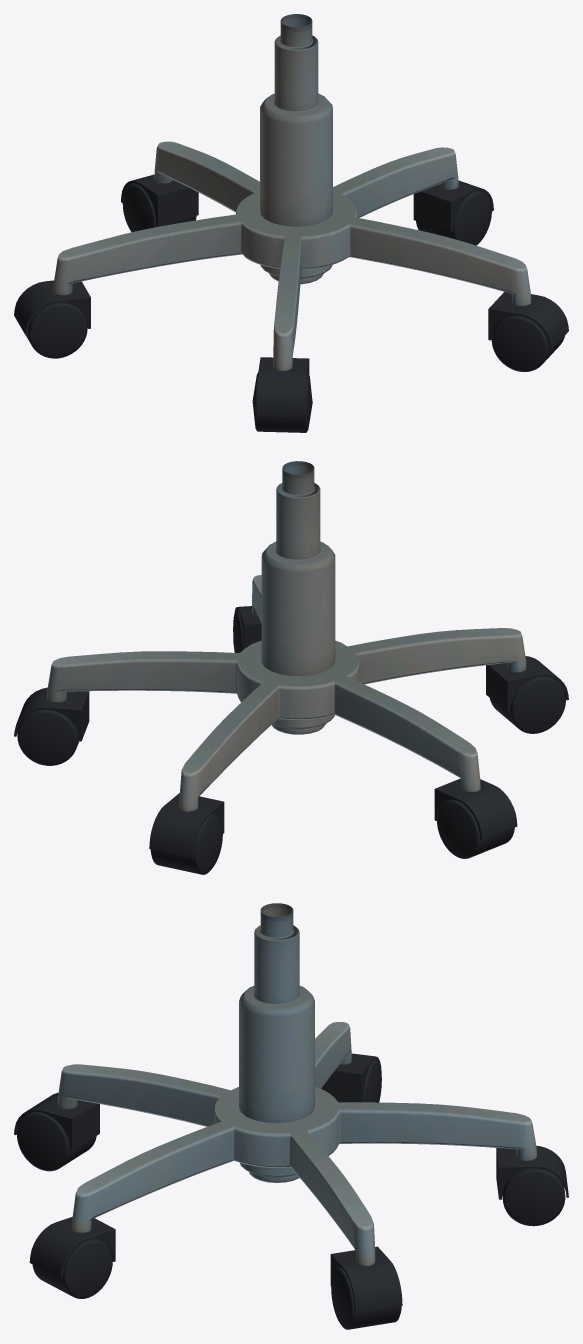
File: wheelChair_bottom.obj
3 renders of one model, top to bottom at view 1: azimuth 30°, elevation 25°; view 2: azimuth 150°, elevation 25°; view 3: azimuth 270°, elevation 25°, orthographic. The views are drawn at different scales.
Parts seen in each view (by area): view 1: node_id87.018_mesh_id88.018, node_id87.019_mesh_id88.019, node_id87.034_mesh_id88.034, node_id87.022_mesh_id88.022, node_id87.036_mesh_id88.036, node_id87.005_mesh_id88.005, node_id87.013_mesh_id88.013, node_id87.029_mesh_id88.029, node_id87.004_mesh_id88.004, node_id87.027_mesh_id88.027, node_id87.045_mesh_id88.045, node_id87.009_mesh_id88.009 (+7 smaller); view 2: node_id87.019_mesh_id88.019, node_id87.018_mesh_id88.018, node_id87.034_mesh_id88.034, node_id87.020_mesh_id88.020, node_id87.036_mesh_id88.036, node_id87.045_mesh_id88.045, node_id87.031_mesh_id88.031, node_id87.009_mesh_id88.009, node_id87.007_mesh_id88.007, node_id87.014_mesh_id88.014, node_id87.005_mesh_id88.005, node_id87.027_mesh_id88.027 (+7 smaller); view 3: node_id87.019_mesh_id88.019, node_id87.018_mesh_id88.018, node_id87.034_mesh_id88.034, node_id87.021_mesh_id88.021, node_id87.036_mesh_id88.036, node_id87.027_mesh_id88.027, node_id87.011_mesh_id88.011, node_id87.004_mesh_id88.004, node_id87.006_mesh_id88.006, node_id87.028_mesh_id88.028, node_id87.005_mesh_id88.005, node_id87.045_mesh_id88.045 (+7 smaller).
Boxes of the visible parts, box(x1,y1,x2,y2) form: node_id87.018_mesh_id88.018: box(57, 141, 527, 337); node_id87.019_mesh_id88.019: box(53, 148, 458, 285); node_id87.034_mesh_id88.034: box(260, 93, 332, 284); node_id87.022_mesh_id88.022: box(321, 228, 530, 297); node_id87.036_mesh_id88.036: box(274, 35, 319, 112); node_id87.005_mesh_id88.005: box(256, 357, 309, 417); node_id87.013_mesh_id88.013: box(28, 303, 87, 358); node_id87.029_mesh_id88.029: box(491, 316, 547, 371); node_id87.004_mesh_id88.004: box(488, 292, 568, 349); node_id87.027_mesh_id88.027: box(413, 180, 493, 232); node_id87.045_mesh_id88.045: box(121, 174, 198, 226); node_id87.009_mesh_id88.009: box(14, 280, 90, 334); node_id87.019_mesh_id88.019: box(47, 582, 480, 803); node_id87.018_mesh_id88.018: box(51, 575, 522, 777); node_id87.034_mesh_id88.034: box(261, 541, 335, 734); node_id87.020_mesh_id88.020: box(351, 639, 500, 682); node_id87.036_mesh_id88.036: box(275, 483, 321, 560); node_id87.045_mesh_id88.045: box(149, 793, 224, 858); node_id87.031_mesh_id88.031: box(17, 710, 77, 765); node_id87.009_mesh_id88.009: box(434, 778, 517, 840); node_id87.007_mesh_id88.007: box(511, 677, 565, 733); node_id87.014_mesh_id88.014: box(437, 800, 479, 858); node_id87.005_mesh_id88.005: box(486, 656, 568, 712); node_id87.027_mesh_id88.027: box(14, 687, 89, 741); node_id87.019_mesh_id88.019: box(95, 1028, 536, 1257); node_id87.018_mesh_id88.018: box(61, 1022, 532, 1230); node_id87.034_mesh_id88.034: box(239, 986, 314, 1182); node_id87.021_mesh_id88.021: box(58, 1072, 217, 1125); node_id87.036_mesh_id88.036: box(253, 925, 300, 1004); node_id87.027_mesh_id88.027: box(330, 1246, 402, 1313); node_id87.011_mesh_id88.011: box(502, 1169, 565, 1226); node_id87.004_mesh_id88.004: box(29, 1217, 115, 1279); node_id87.006_mesh_id88.006: box(17, 1112, 68, 1171); node_id87.028_mesh_id88.028: box(63, 1240, 112, 1298); node_id87.005_mesh_id88.005: box(14, 1092, 99, 1150); node_id87.045_mesh_id88.045: box(496, 1145, 568, 1199).
Bounding box in the file's own units: 1.29 × 0.774 × 1.25.
